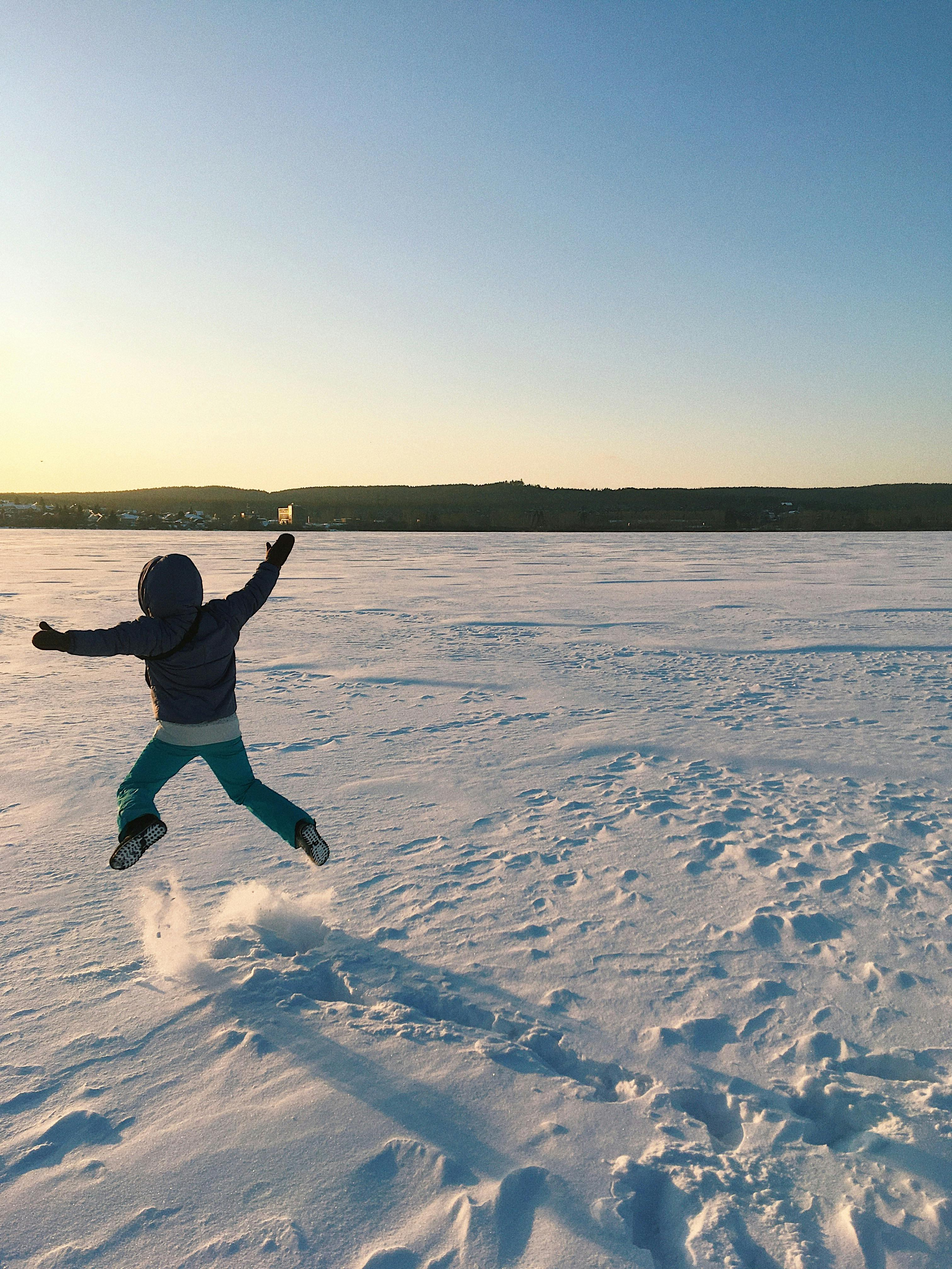Human: (39, 536, 366, 884)
